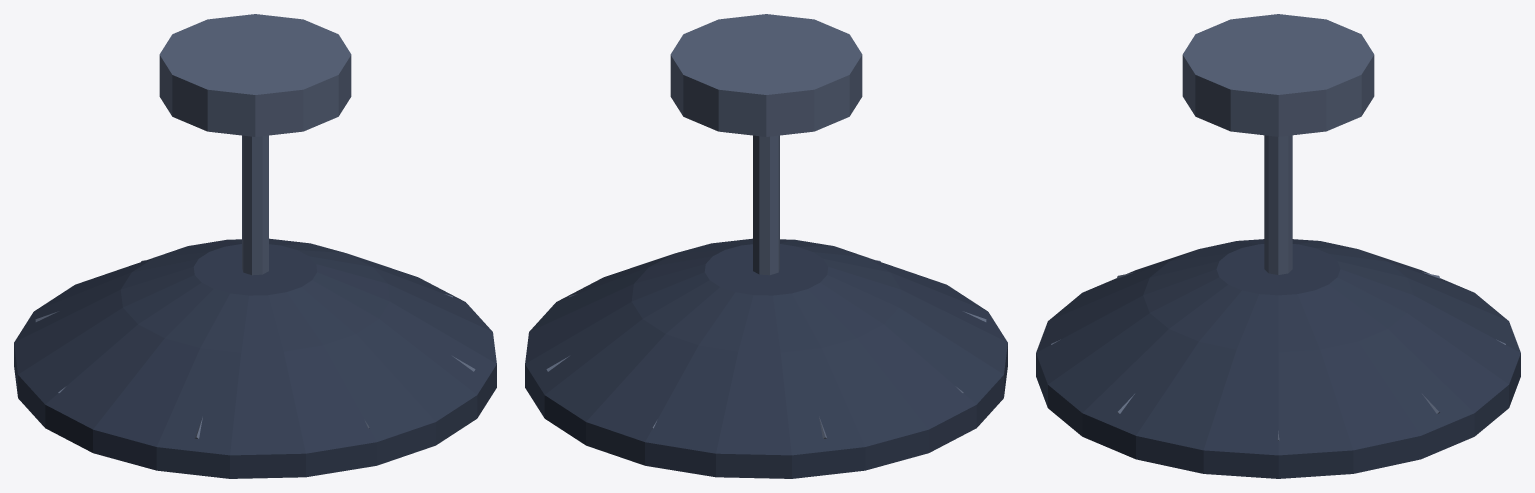
The model's file is res_interrogation_lamp.glb.
3 views of the same model, side by side, from view 1: azimuth 30°, elevation 25°; view 2: azimuth 150°, elevation 25°; view 3: azimuth 270°, elevation 25° (orthographic).
Parts seen in each view (by area): view 1: vented_bell_shade, ceiling_canopy; view 2: vented_bell_shade, ceiling_canopy; view 3: vented_bell_shade, ceiling_canopy.
Boxes of the visible parts, x1=… form: vented_bell_shade: x1=14, y1=238, x2=496, y2=478; ceiling_canopy: x1=159, y1=14, x2=351, y2=275; vented_bell_shade: x1=525, y1=238, x2=1007, y2=478; ceiling_canopy: x1=670, y1=14, x2=862, y2=275; vented_bell_shade: x1=1036, y1=239, x2=1520, y2=478; ceiling_canopy: x1=1182, y1=14, x2=1374, y2=274.
Bounding box in the file's own units: 0.86 × 0.63 × 0.86.
